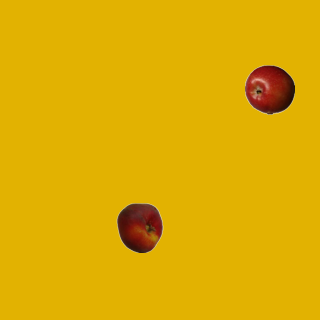Apple Braeburn: (244, 64, 294, 114)
Nectarine Flat: (114, 202, 164, 252)
